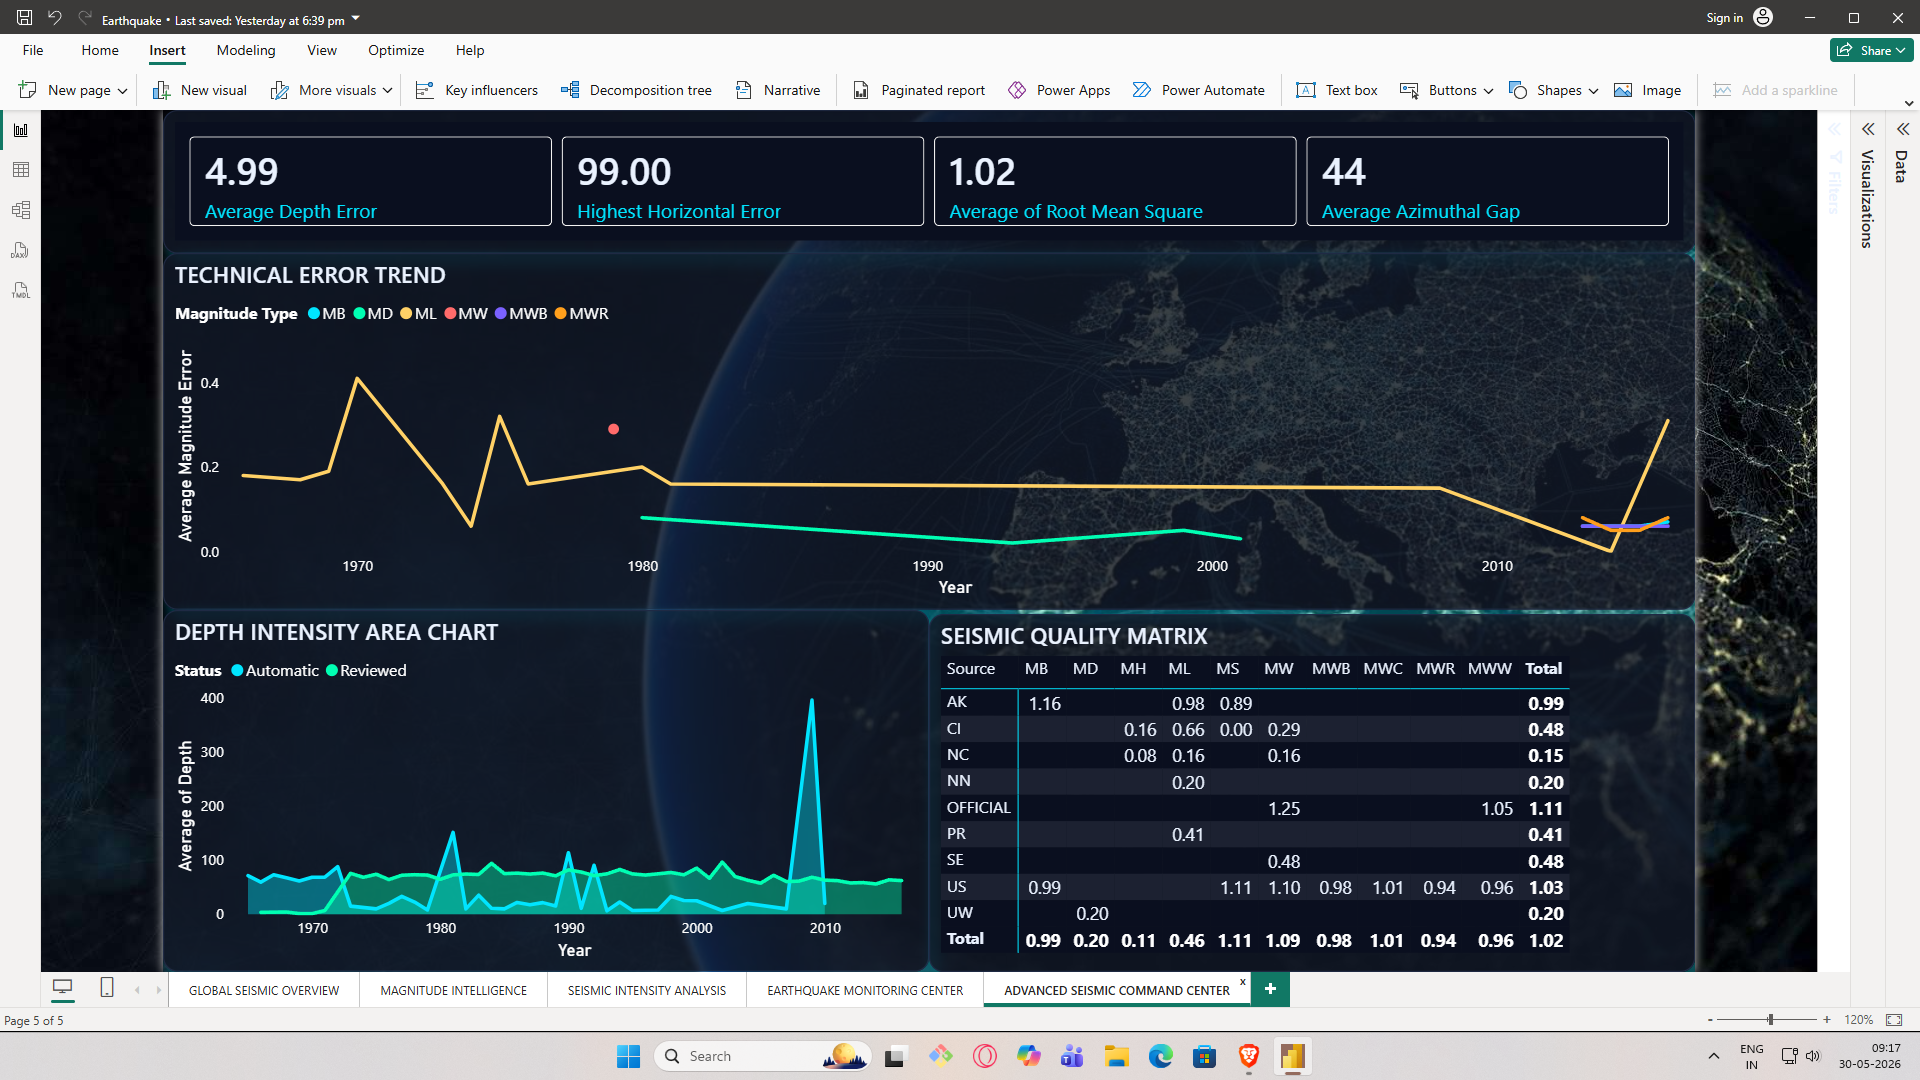

Layout of this report page (visuals, bound fields, positions):
{"tool":"powerbi","page":{"name":"ADVANCED SEISMIC COMMAND CENTER","canvas":[1280,720],"ordinal":4},"visuals":[{"type":"cardVisual","fields":{"Data":["earthquake.Average Depth Error","earthquake.Highest Horizontal Error","Avg(earthquake.Root Mean Square)","earthquake.Average Azimuthal Gap"]},"box":[0,0,1280,119.6],"z":0},{"type":"lineChart","title":"TECHNICAL ERROR TREND","fields":{"Category":["earthquake.Date.Variation.Date Hierarchy.Year","earthquake.Date.Variation.Date Hierarchy.Quarter","earthquake.Date.Variation.Date Hierarchy.Month","earthquake.Date.Variation.Date Hierarchy.Day"],"Y":["earthquake.Average Magnitude Error"],"Series":["earthquake.Magnitude Type"]},"box":[0,119.6,1280,297.6],"z":1000},{"type":"areaChart","title":"DEPTH INTENSITY AREA CHART","fields":{"Category":["earthquake.Date.Variation.Date Hierarchy.Year","earthquake.Date.Variation.Date Hierarchy.Quarter","earthquake.Date.Variation.Date Hierarchy.Month","earthquake.Date.Variation.Date Hierarchy.Day"],"Y":["Avg(earthquake.Depth)"],"Series":["earthquake.Status"]},"box":[0,417.3,640,302.5],"z":2000},{"type":"pivotTable","title":"SEISMIC QUALITY MATRIX","fields":{"Rows":["earthquake.Source"],"Columns":["earthquake.Magnitude Type"],"Values":["Avg(earthquake.Root Mean Square)"]},"box":[640,421.2,640,298.6],"z":3000}]}

Visuals, with their boxes on the page's 1280x720 design canvas (x1, y1, x2, y2). These are canvas units, not pixel positions in the 1920x1080 screenshot, which may show the page scaled, cropped or inside an application window:
cardVisual - earthquake.Average Depth Error x earthquake.Highest Horizontal Error: 0:0:1280:120
"TECHNICAL ERROR TREND" lineChart: 0:120:1280:417
"DEPTH INTENSITY AREA CHART" areaChart: 0:417:640:720
"SEISMIC QUALITY MATRIX" pivotTable: 640:421:1280:720
